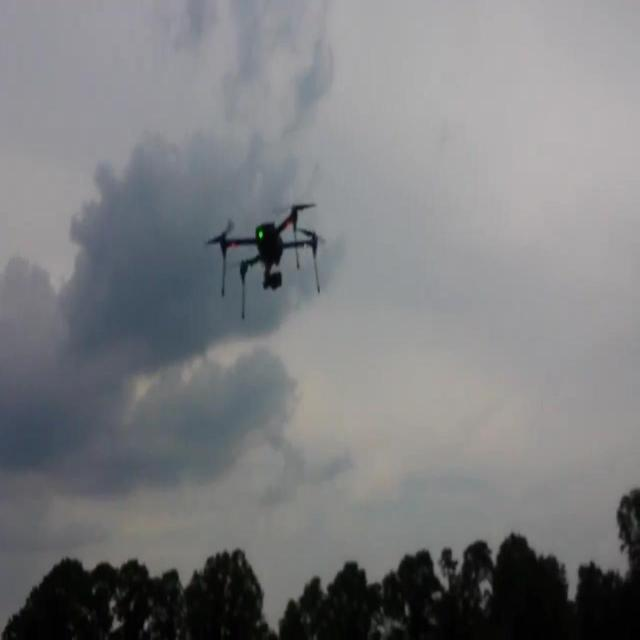drone: (204, 200, 326, 322)
